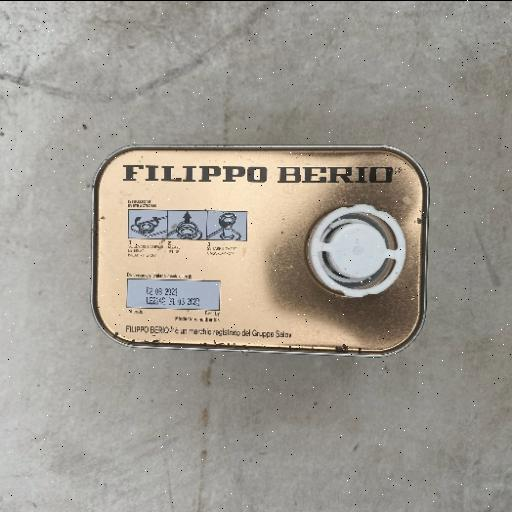Metal: (88, 142, 430, 358)
